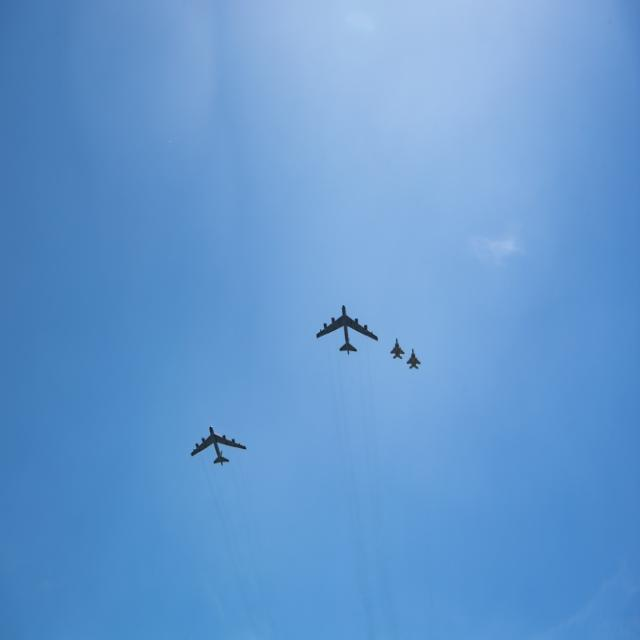MIL_Plane: (297, 304, 359, 356), (171, 426, 227, 465), (390, 337, 405, 360), (407, 348, 421, 370)
